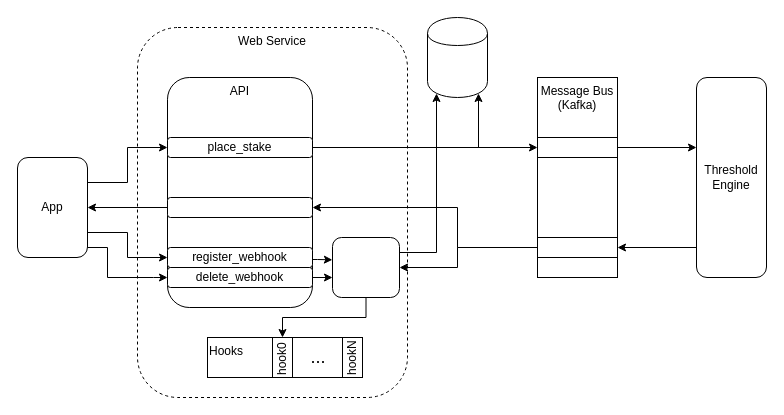
The diagram is 784 pixels wide and 415 high, and some of its shapes have lost their labels. The shapes that lost their labels are listed below. From the top down, each one's centre as x and y in pixels, then its label:
pixel 457 57: MongoDB
pixel 577 147: stakes
pixel 239 207: notifications_websocket
pixel 366 267: Webhook Dispatcher
pixel 577 247: notifications
